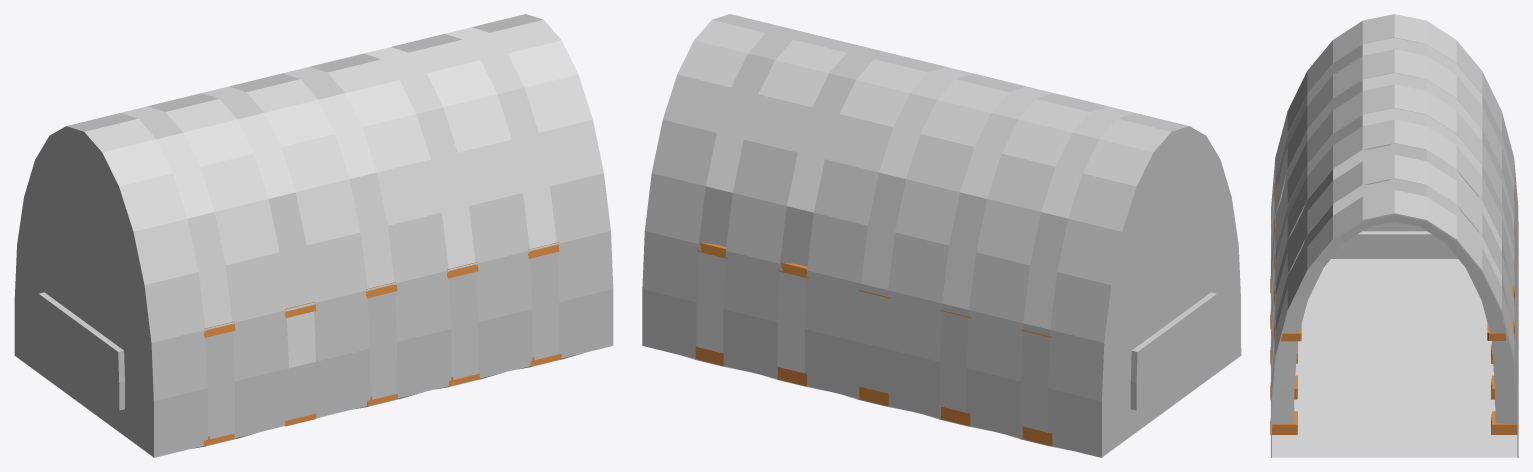
File: Cisterna.fbx
3 renders of one model, left to right at view 1: azimuth 30°, elevation 25°; view 2: azimuth 150°, elevation 25°; view 3: azimuth 270°, elevation 25°, orthographic. The views are drawn at different scales.
Visible parts, largest first — view 1: Cylinder.001, Cube.019, Cube.023; view 2: Cylinder.001, Cube.024, Cube.020; view 3: Cylinder.001, Plane, Cube.023, Cube.024, Cube.019, Cube.020.
Part boxes in pixels (x1,y1,x2,y2): Cylinder.001: [14, 14, 613, 457]; Cube.019: [204, 242, 559, 337]; Cube.023: [203, 354, 561, 446]; Cylinder.001: [642, 14, 1241, 457]; Cube.024: [695, 347, 1052, 445]; Cube.020: [697, 243, 1051, 337]; Cylinder.001: [1271, 14, 1518, 457]; Plane: [1270, 258, 1517, 457]; Cube.023: [1270, 276, 1297, 435]; Cube.024: [1491, 343, 1517, 434]; Cube.019: [1274, 180, 1301, 341]; Cube.020: [1487, 187, 1514, 340].
Size of the model in its own units: 2718 by 1542 by 1412.
